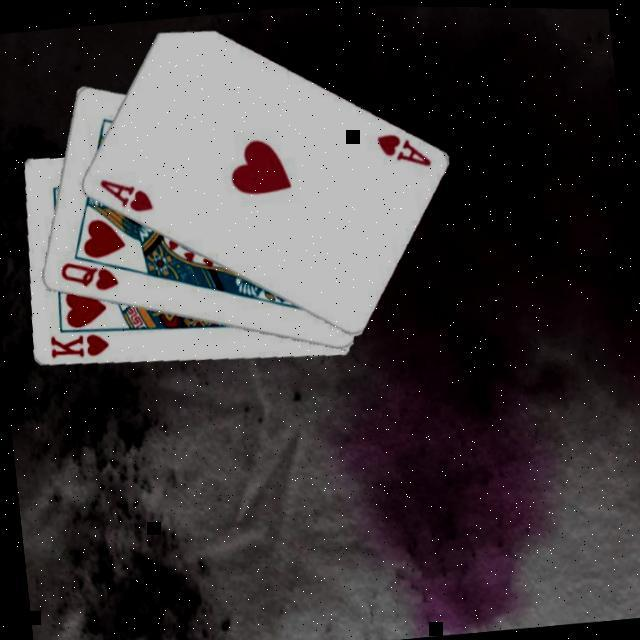AH: (372, 125, 434, 174), (96, 171, 156, 219)
KH: (46, 327, 114, 365)
QH: (56, 254, 122, 298)
